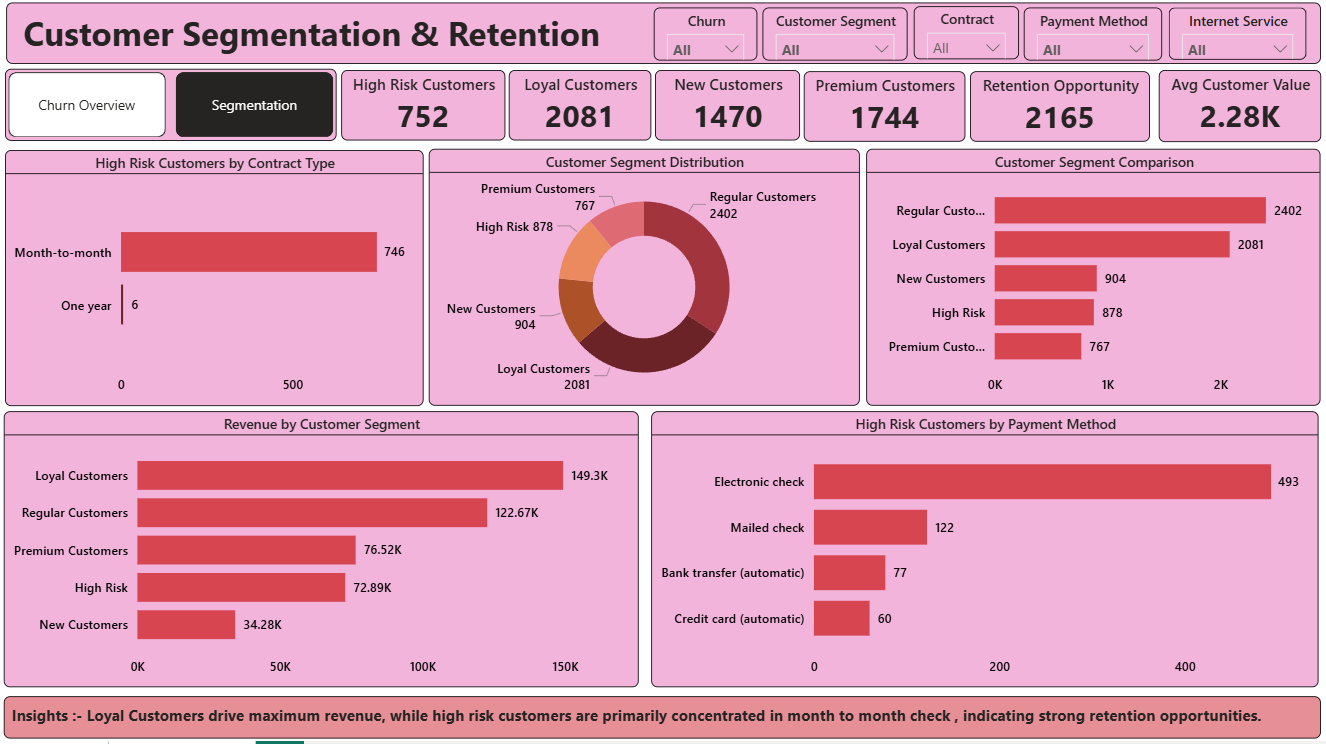

Layout of this report page (visuals, bound fields, positions):
{"tool":"powerbi","page":{"name":"Segmentation","canvas":[1920,1080],"ordinal":1},"visuals":[{"type":"textbox","box":[25.3,27.1,1869.7,119.3],"z":0},{"type":"cardVisual","fields":{"Data":["IBM.High Risk Customers"]},"box":[568.5,170,206.1,88.6],"z":1000},{"type":"cardVisual","fields":{"Data":["IBM.Loyal Customers"]},"box":[790.9,170,206.1,88.6],"z":2000},{"type":"cardVisual","fields":{"Data":["IBM.New Customers"]},"box":[1009.7,171.8,206.1,88.6],"z":3000},{"type":"cardVisual","fields":{"Data":["IBM.Premium Customers"]},"box":[1232.1,170,206.1,88.6],"z":4000},{"type":"cardVisual","fields":{"Data":["IBM.Retention Oppoetunity"]},"box":[1444.8,170,231.5,88.6],"z":5000},{"type":"cardVisual","fields":{"Data":["IBM.Avg customer value"]},"box":[1688.9,170,206.1,88.6],"z":6000},{"type":"barChart","title":"High Risk Customers by contract Type","fields":{"Category":["IBM.Contract"],"Y":["IBM.High Risk Customers"]},"box":[25.3,280.3,645.5,374.3],"z":7000},{"type":"columnChart","title":"Revenue by Customer  Segment","fields":{"Category":["IBM.Customer Segment"],"Y":["IBM.Total Revenue"]},"box":[25.3,678.1,645.5,374.3],"z":8000},{"type":"barChart","title":"High Risk Customer by Payment Method","fields":{"Category":["IBM.PaymentMethod"],"Y":["IBM.High Risk Customers"]},"box":[699.8,679.9,1195.3,374.3],"z":9000},{"type":"slicer","title":"Churn","fields":{"Values":["IBM.Churn"]},"box":[1036.1,45.2,150.1,83.2],"z":10000},{"type":"slicer","title":"Gender","fields":{"Values":["IBM.gender"]},"box":[1215.1,45.2,150.1,83.2],"z":11000},{"type":"slicer","title":"Contract","fields":{"Values":["IBM.Contract"]},"box":[1388.7,45.2,150.1,83.2],"z":12000},{"type":"slicer","title":"Payment Method","fields":{"Values":["IBM.PaymentMethod"]},"box":[1560.5,45.2,150.1,83.2],"z":13000},{"type":"slicer","title":"Internet Service","fields":{"Values":["IBM.InternetService"]},"box":[1730.5,45.2,150.1,83.2],"z":14000},{"type":"pageNavigator","title":"Page Navigation","box":[25.3,171.8,511.7,86.8],"z":15000},{"type":"barChart","title":"Customer segment      Comparison","fields":{"Category":["IBM.Customer Segment"],"Y":["IBM.Total Customers"]},"box":[1298.3,280.3,596.7,374.3],"z":16000},{"type":"donutChart","title":"Customer segment Distribution","fields":{"Category":["IBM.Customer Segment"],"Y":["IBM.Total Customers"]},"box":[699.8,280.3,585.9,374.3],"z":17000}]}

Visuals, with their boxes in screenshot pixels (x1, y1, x2, y2), scaled from the page's 1920x1080 canvas onto the 1326x744 screenshot:
textbox: rect(17, 19, 1309, 101)
cardVisual - IBM.High Risk Customers: rect(393, 117, 535, 178)
cardVisual - IBM.Loyal Customers: rect(546, 117, 689, 178)
cardVisual - IBM.New Customers: rect(697, 118, 840, 179)
cardVisual - IBM.Premium Customers: rect(851, 117, 993, 178)
cardVisual - IBM.Retention Oppoetunity: rect(998, 117, 1158, 178)
cardVisual - IBM.Avg customer value: rect(1166, 117, 1309, 178)
"High Risk Customers by contract Type" barChart: rect(17, 193, 463, 451)
"Revenue by Customer  Segment" columnChart: rect(17, 467, 463, 725)
"High Risk Customer by Payment Method" barChart: rect(483, 468, 1309, 726)
"Churn" slicer: rect(716, 31, 819, 88)
"Gender" slicer: rect(839, 31, 943, 88)
"Contract" slicer: rect(959, 31, 1063, 88)
"Payment Method" slicer: rect(1078, 31, 1181, 88)
"Internet Service" slicer: rect(1195, 31, 1299, 88)
"Page Navigation" pageNavigator: rect(17, 118, 371, 178)
"Customer segment      Comparison" barChart: rect(897, 193, 1309, 451)
"Customer segment Distribution" donutChart: rect(483, 193, 888, 451)
